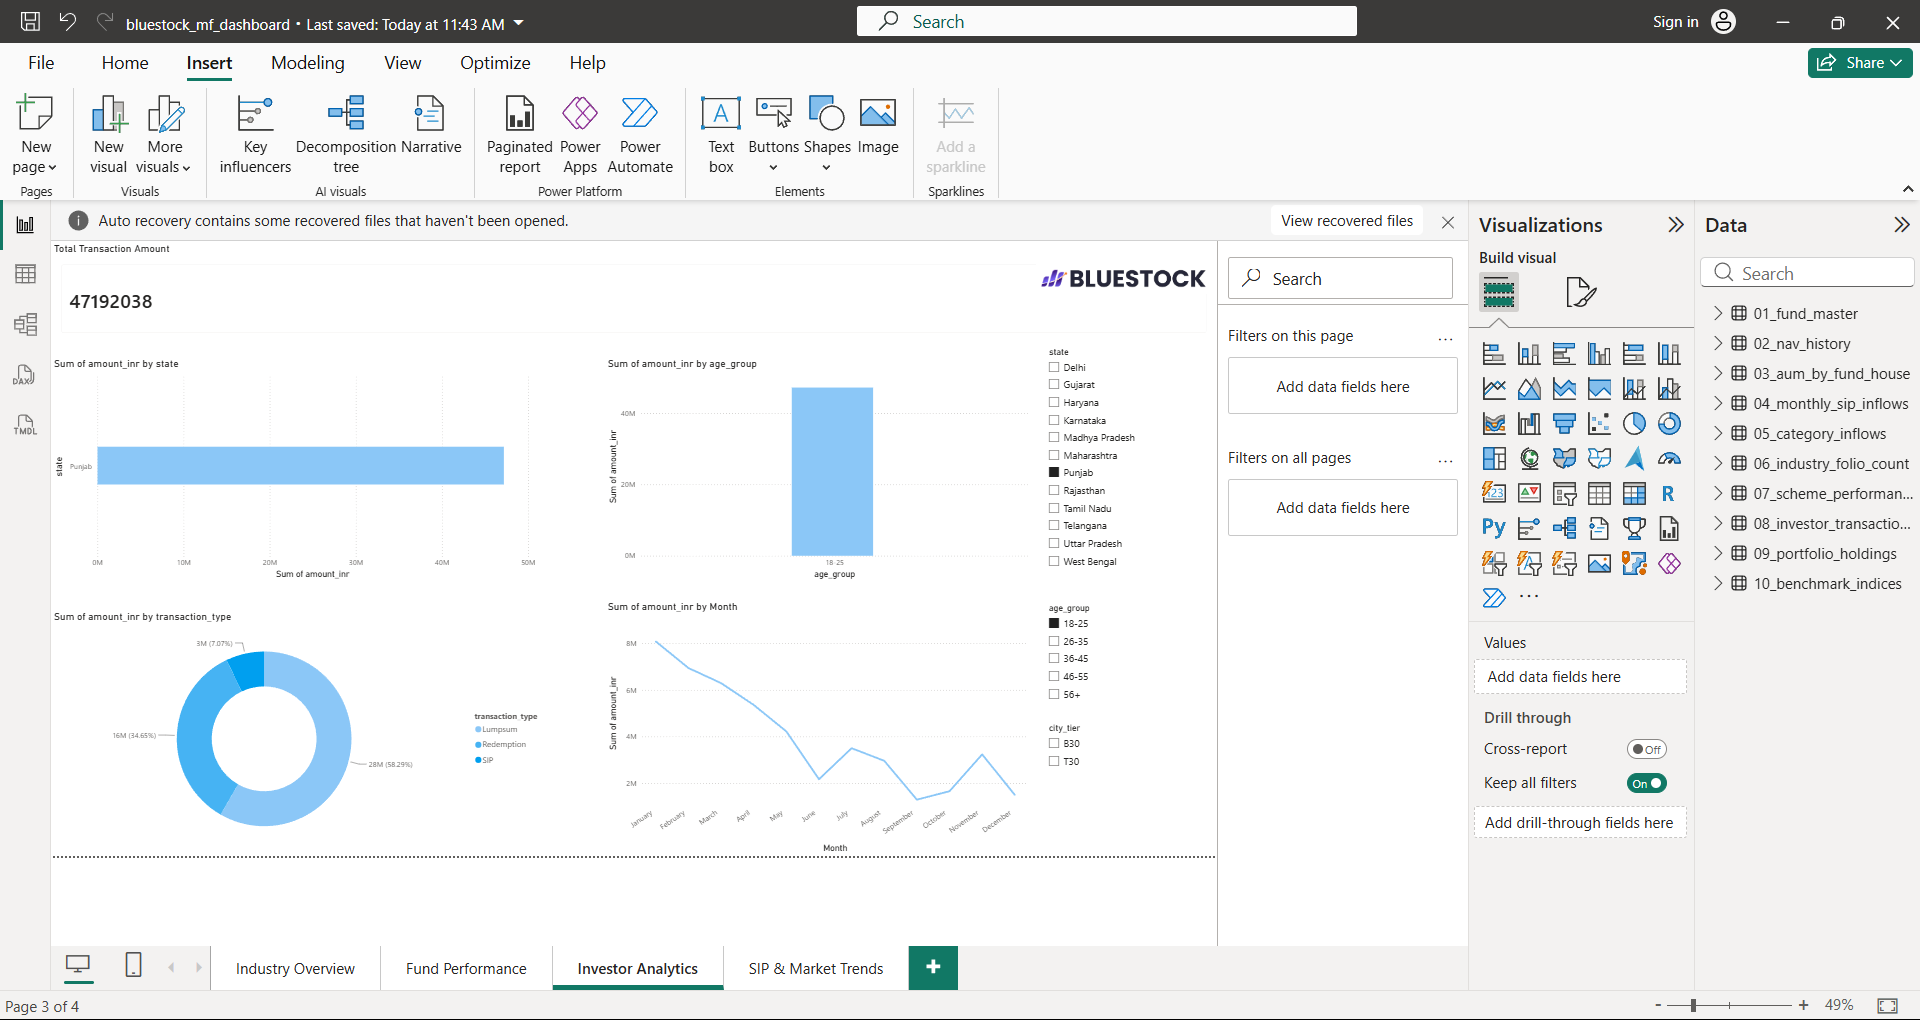

The dashboard page shown, as its layout file describes it:
{"tool":"powerbi","page":{"name":"Investor Analytics","canvas":[1920,1080],"ordinal":2},"visuals":[{"type":"cardVisual","title":"Total Transaction Amount","fields":{"Data":["Sum(08_investor_transactions.amount_inr)"]},"box":[0,70,1920.4,166.7],"z":0},{"type":"clusteredBarChart","fields":{"Category":["08_investor_transactions.state"],"Y":["Sum(08_investor_transactions.amount_inr)"]},"box":[0,259.3,802.7,370.5],"z":1000},{"type":"donutChart","fields":{"Category":["08_investor_transactions.transaction_type"],"Y":["Sum(08_investor_transactions.amount_inr)"]},"box":[0,675.1,821.3,405.5],"z":2000},{"type":"clusteredColumnChart","fields":{"Category":["08_investor_transactions.age_group"],"Y":["Sum(08_investor_transactions.amount_inr)"]},"box":[911.8,259.3,701.9,370.5],"z":3000},{"type":"lineChart","fields":{"Category":["08_investor_transactions.transaction_date.Variation.Date Hierarchy.Month"],"Y":["Sum(08_investor_transactions.amount_inr)"]},"box":[911.8,658.7,701.9,422],"z":4000},{"type":"slicer","fields":{"Values":["08_investor_transactions.state"]},"box":[1630.2,236.7,263.5,393.1],"z":5000},{"type":"slicer","fields":{"Values":["08_investor_transactions.age_group"]},"box":[1630.2,658.7,263.5,189.4],"z":6000},{"type":"slicer","fields":{"Values":["08_investor_transactions.city_tier"]},"box":[1630.2,856.3,263.5,224.4],"z":7000},{"type":"image","box":[1622,20.6,298.5,216.1],"z":7001}]}

Visuals, with their boxes on the page's 1920x1080 design canvas (x1, y1, x2, y2). These are canvas units, not pixel positions in the 1920x1020 screenshot, which may show the page scaled, cropped or inside an application window:
"Total Transaction Amount" cardVisual: 0,70,1920,237
clusteredBarChart - 08_investor_transactions.state x Sum(08_investor_transactions.amount_inr): 0,259,803,630
donutChart - 08_investor_transactions.transaction_type x Sum(08_investor_transactions.amount_inr): 0,675,821,1081
clusteredColumnChart - 08_investor_transactions.age_group x Sum(08_investor_transactions.amount_inr): 912,259,1614,630
lineChart - 08_investor_transactions.transaction_date.Variation.Date Hierarchy.Month x Sum(08_investor_transactions.amount_inr): 912,659,1614,1081
slicer - 08_investor_transactions.state: 1630,237,1894,630
slicer - 08_investor_transactions.age_group: 1630,659,1894,848
slicer - 08_investor_transactions.city_tier: 1630,856,1894,1081
image: 1622,21,1920,237
